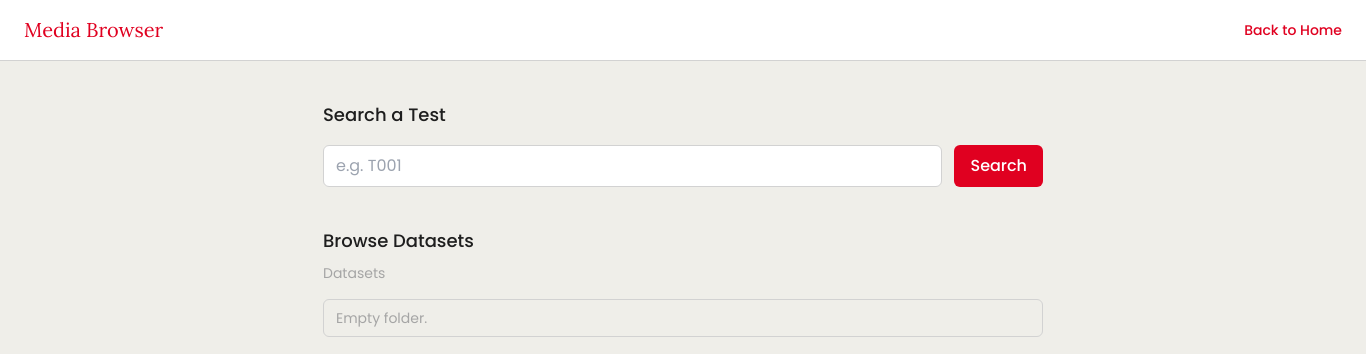
it: MediaBrowserView › shows filtered suggestions as the user types
Type "T00" into the field with id "test-search".
click(633, 166); type("T00")  # box 323,145 -> 942,187
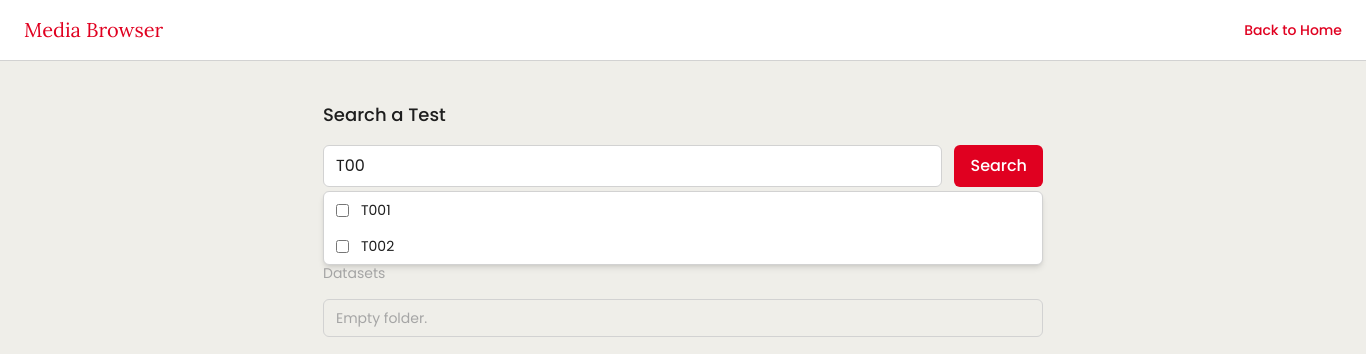
Check: the elements with test id "test-suggestion" read "T001", "T002", in this order, box 349,192 -> 1042,228; 349,228 -> 1042,264
